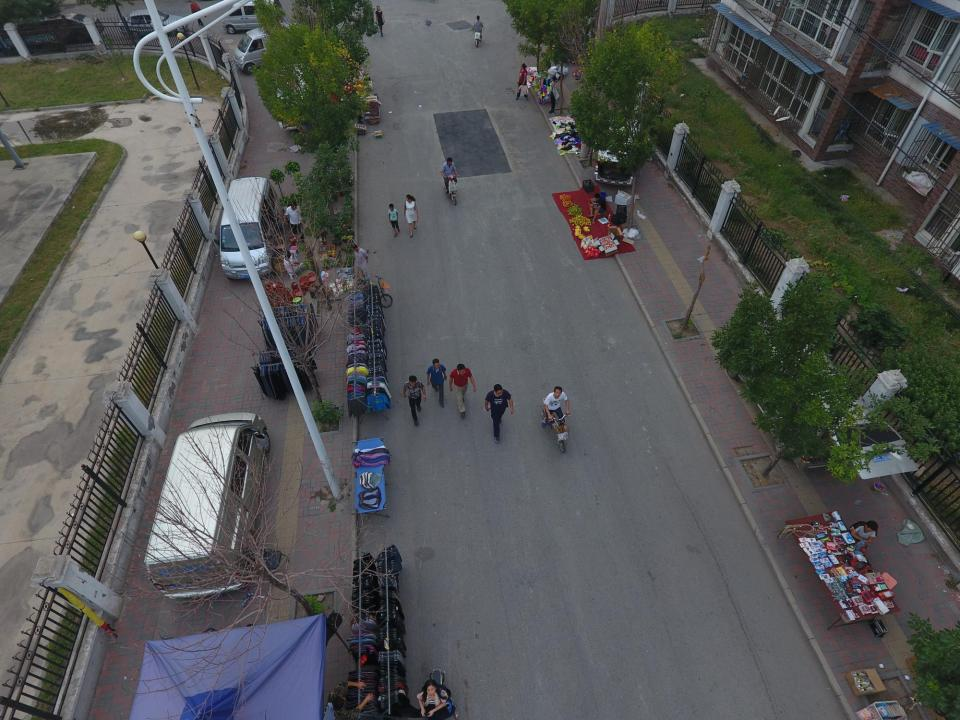car: (31, 14, 104, 43), (118, 9, 188, 39)
van: (725, 336, 918, 480), (145, 411, 270, 599), (213, 176, 279, 280), (233, 22, 311, 75), (594, 118, 640, 186), (221, 0, 286, 34)
